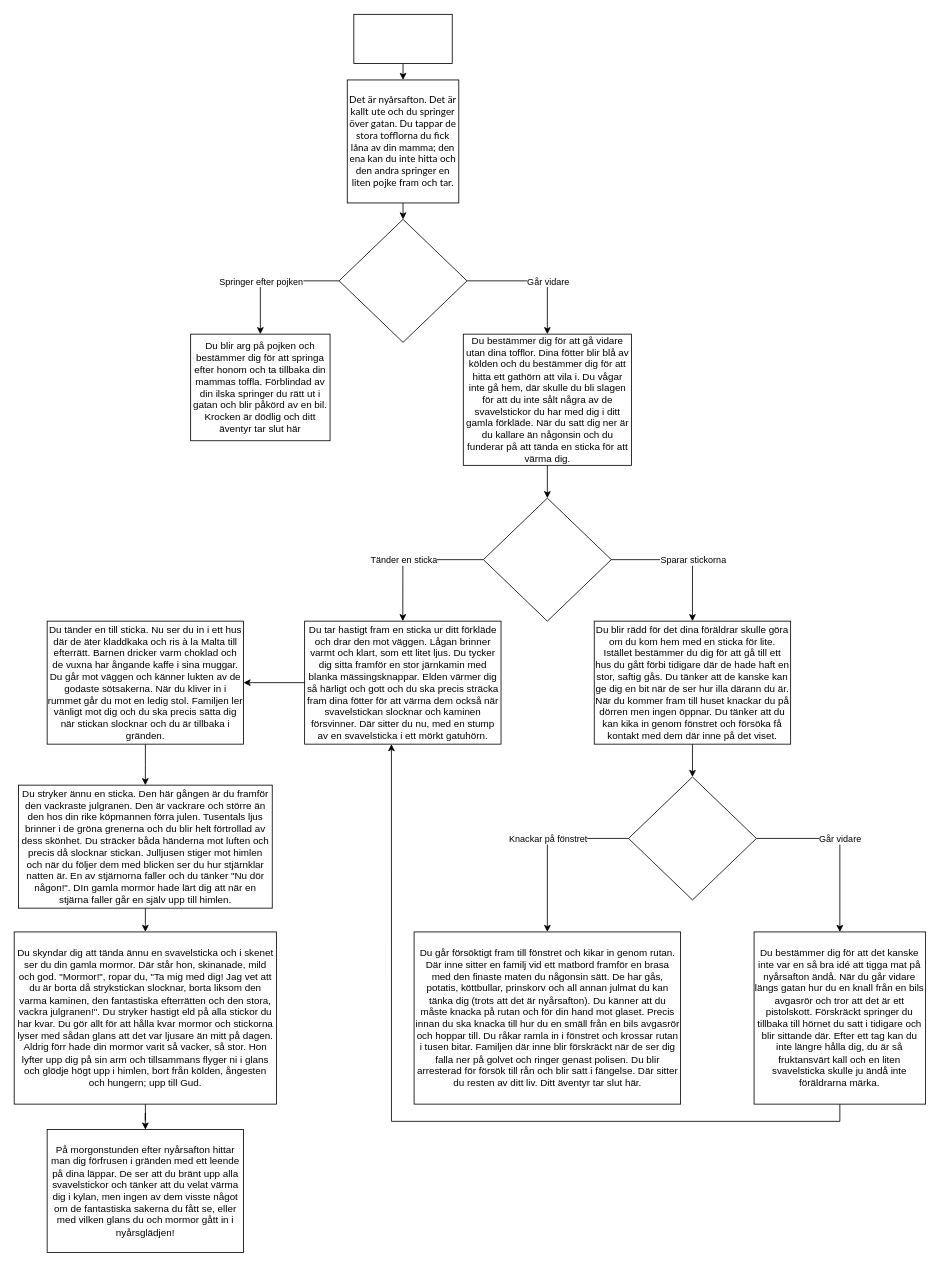
This 941x1267 diagram has some shape labels left out. The centre of each missing label's shape, as x and y in pixels:
Flickan med svavelstickorna: (x=402, y=39)
Knackar du på fönstret?: (x=692, y=838)
Springer du efter pojken eller går du vidare?: (x=402, y=280)
Tänder du en sticka?: (x=547, y=559)
